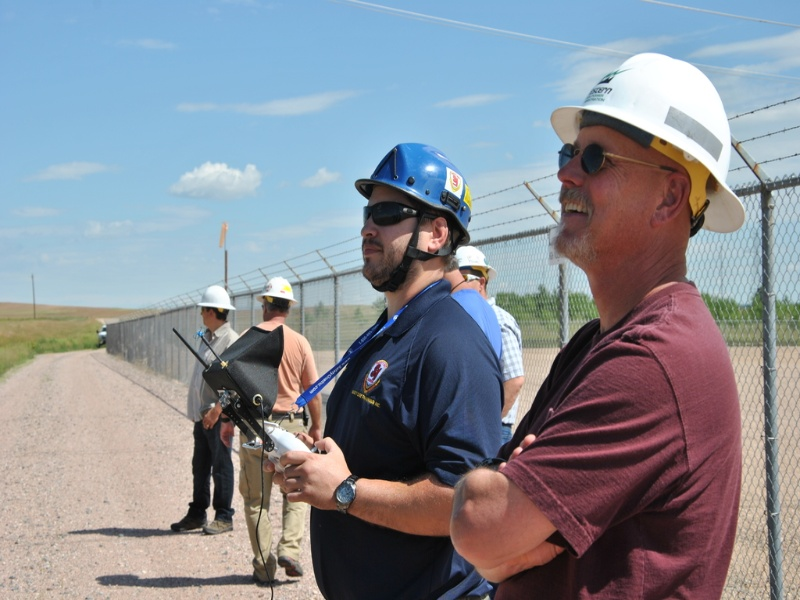Baret: (549, 51, 733, 158), (353, 141, 474, 204), (260, 275, 297, 301), (199, 285, 233, 307)
